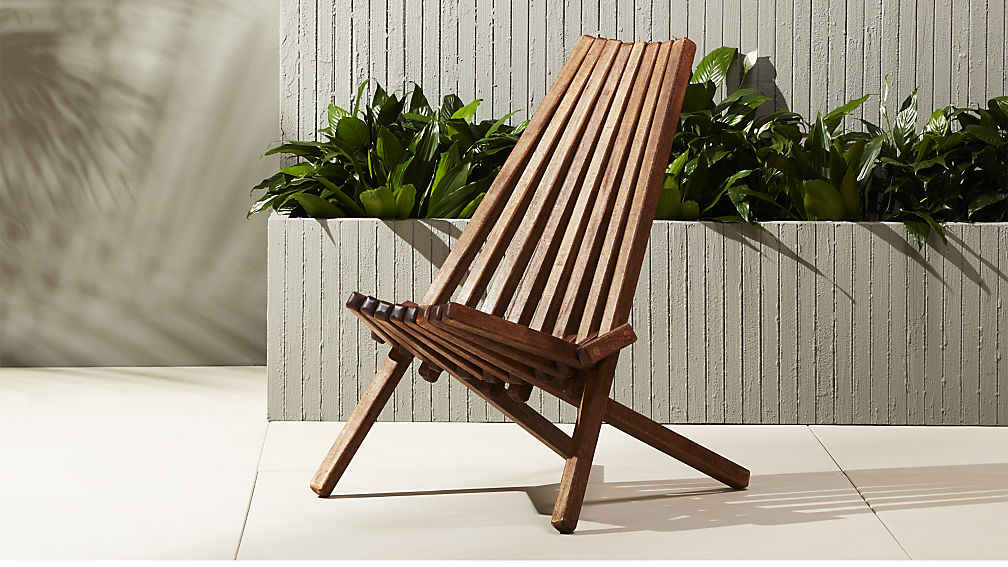chairs: (302, 25, 760, 541)
